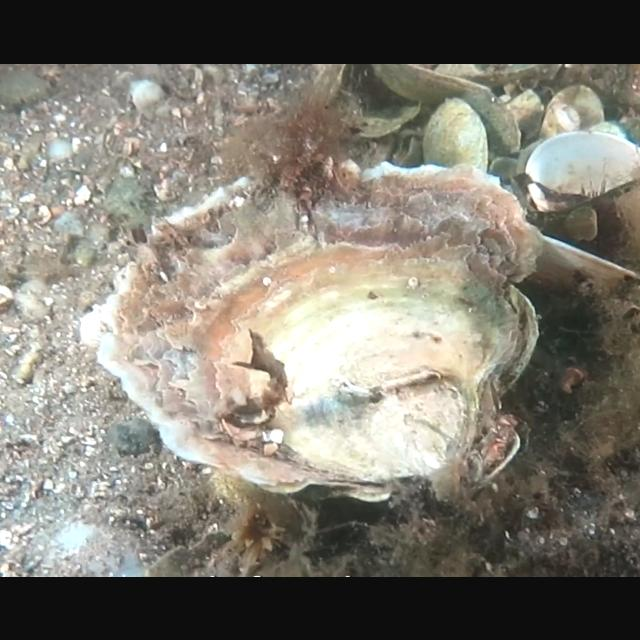Oyster-Closed: (80, 154, 542, 502)
